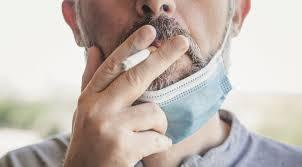smoke: (119, 46, 157, 72)
